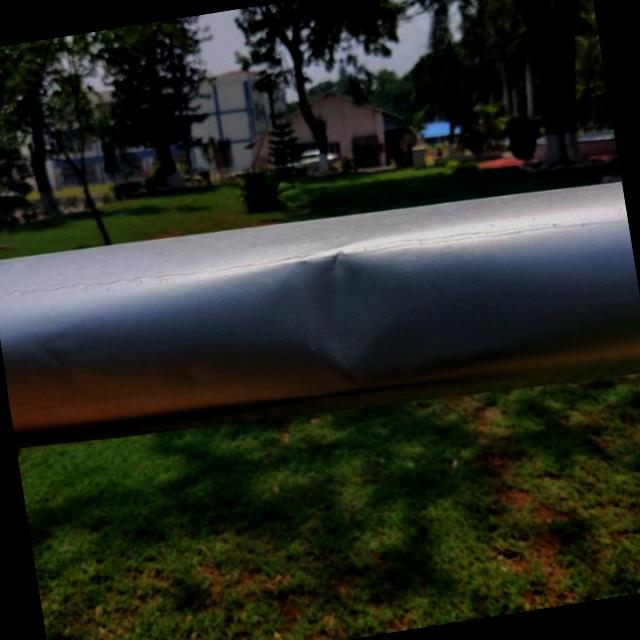dent: (250, 238, 435, 406)
